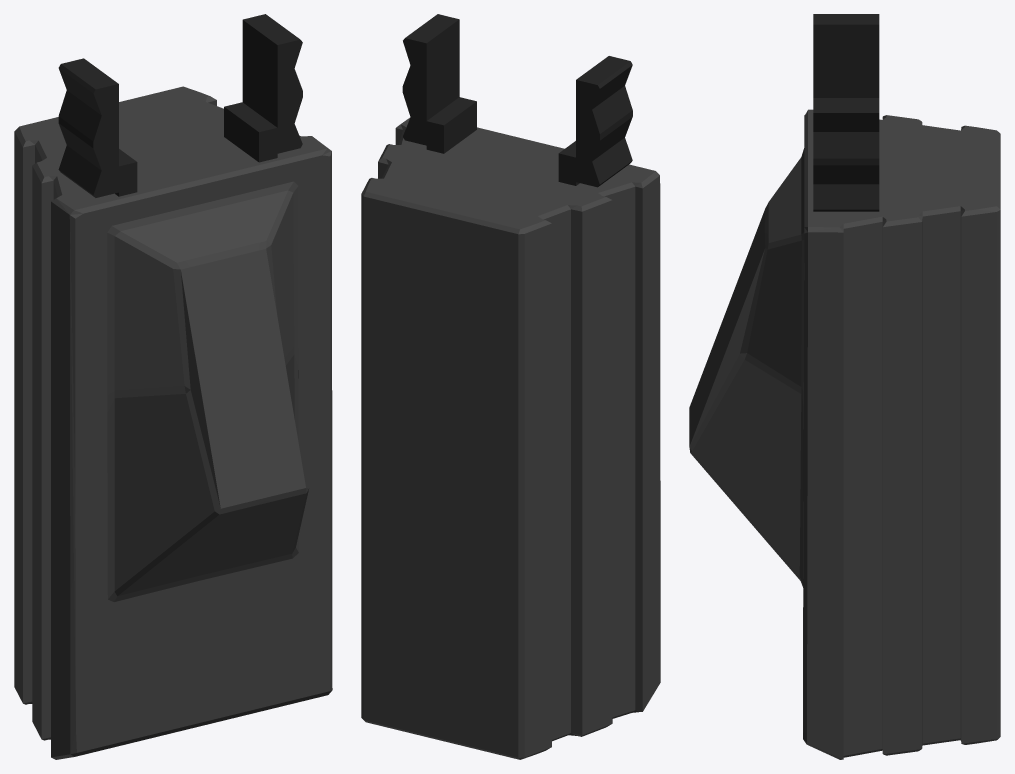
Rendered from ShotgunLaser.glb.
The picture shows the model from 3 angles, left to right: view 1: azimuth 30°, elevation 25°; view 2: azimuth 150°, elevation 25°; view 3: azimuth 270°, elevation 25°; orthographic projection. The views are drawn at different scales.
Visible parts, largest first — view 1: ShotgunLaser; view 2: ShotgunLaser; view 3: ShotgunLaser.
Boxes of the visible parts, bbox=[...] form: ShotgunLaser: bbox=[14, 14, 332, 759]; ShotgunLaser: bbox=[361, 14, 660, 759]; ShotgunLaser: bbox=[689, 14, 1000, 759].
Bounding box in the file's own units: 0.7479 × 1.88 × 0.8103.
1 material, 1 textured.
